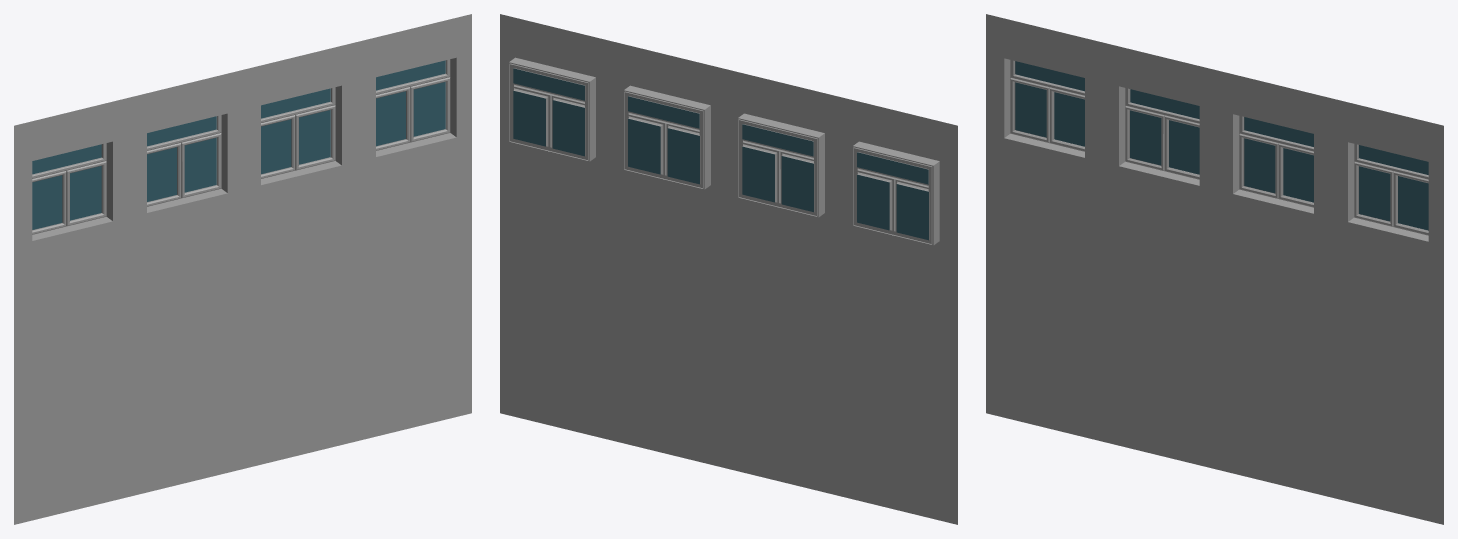
The model's file is Ext_WallBot_Apartments_2x2_001.fbx.
3 renders of one model, left to right at view 1: azimuth 30°, elevation 25°; view 2: azimuth 150°, elevation 25°; view 3: azimuth 330°, elevation 25°, orthographic.
Visible parts, largest first — view 1: polySurface40; view 2: polySurface40; view 3: polySurface40.
Part boxes in pixels (x1,y1,x2,y2): polySurface40: [14, 14, 471, 524]; polySurface40: [500, 14, 957, 524]; polySurface40: [986, 14, 1443, 524].
Size of the model in its own units: 600 by 500 by 17.56.
